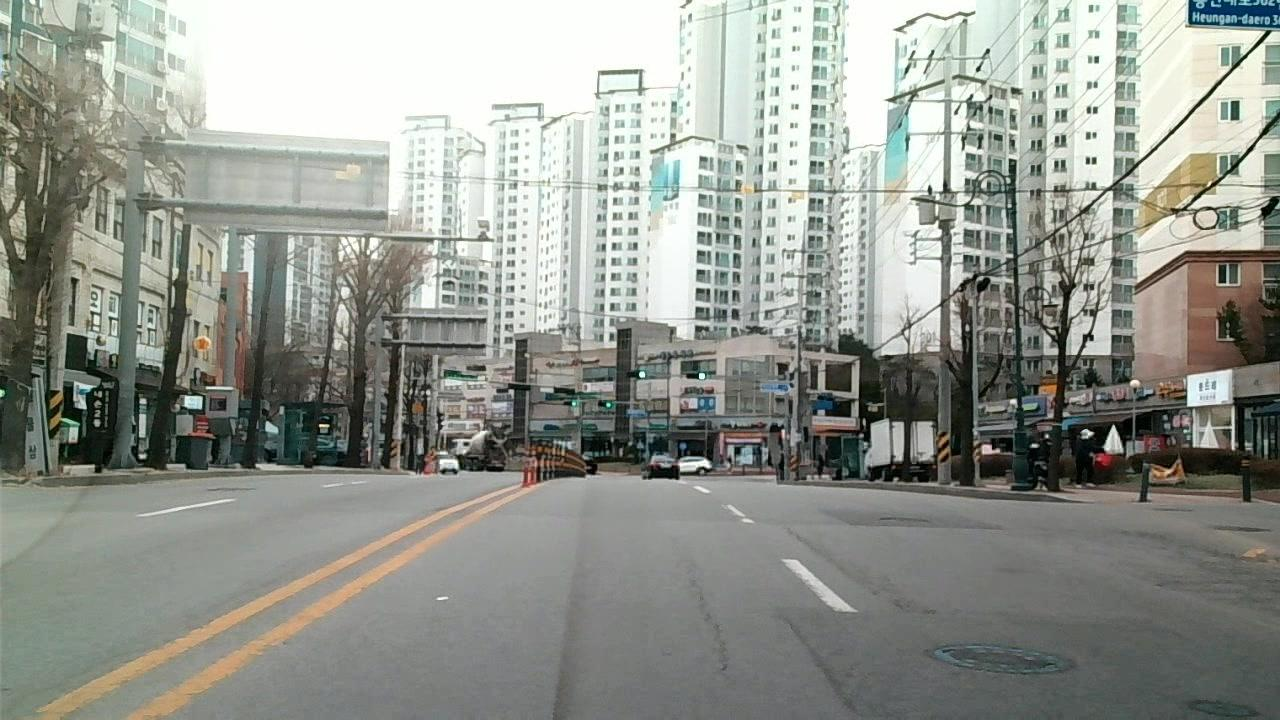vcrack: (788, 618, 855, 720), (780, 518, 867, 582), (690, 575, 727, 682)
